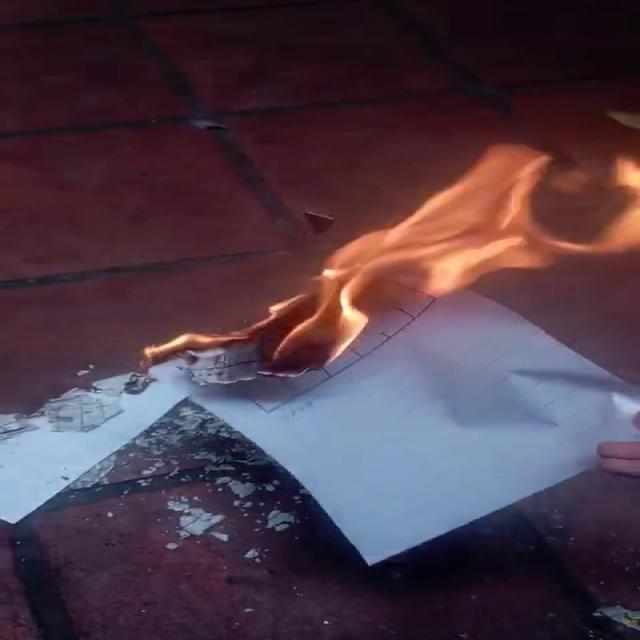Fire_Dangerous: (150, 135, 640, 375)
